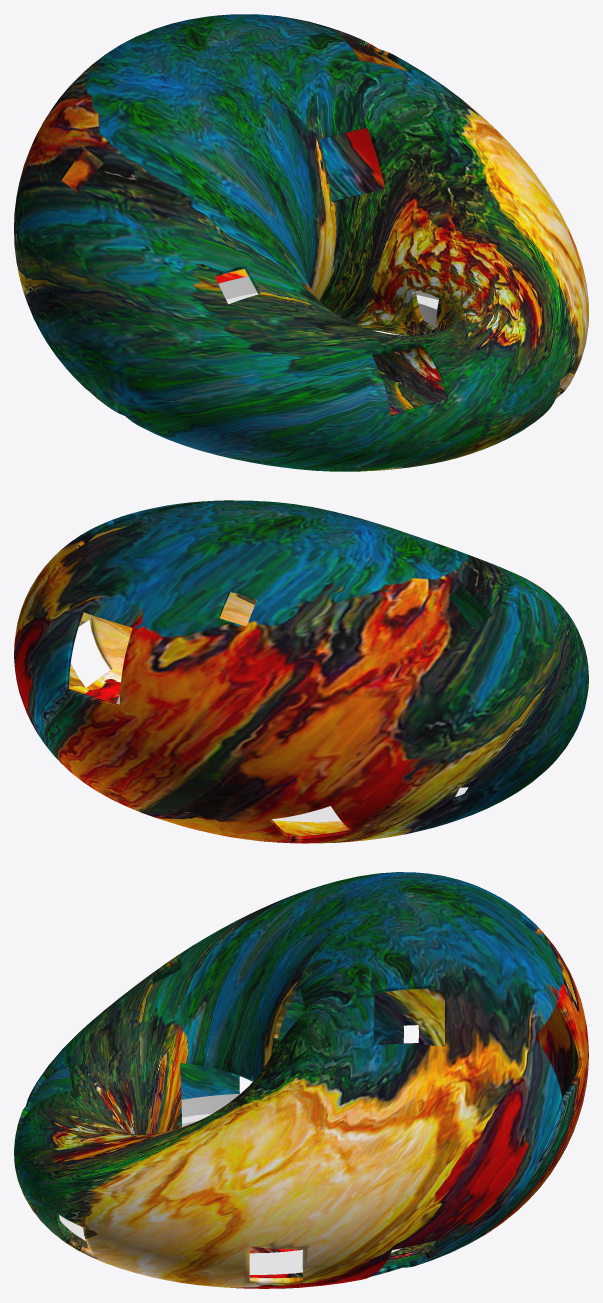
3 renders of one model, top to bottom at view 1: azimuth 30°, elevation 25°; view 2: azimuth 150°, elevation 25°; view 3: azimuth 270°, elevation 25°, orthographic. The views are drawn at different scales.
Visible parts, largest first — view 1: Solids, Ramps; view 2: Solids, Ramps_2; view 3: Solids, Ramps_2, Ramps.
Boxes of the visible parts, <box> form: Solids: <box>14,14,588,471</box>; Ramps: <box>218,276,439,327</box>; Solids: <box>14,500,588,843</box>; Ramps_2: <box>272,787,468,821</box>; Solids: <box>14,872,588,1288</box>; Ramps_2: <box>59,1113,401,1274</box>; Ramps: <box>181,1093,239,1126</box>.
Bounding box in the file's own units: 42.38 × 25.02 × 44.4.
2 materials, 2 textured.
